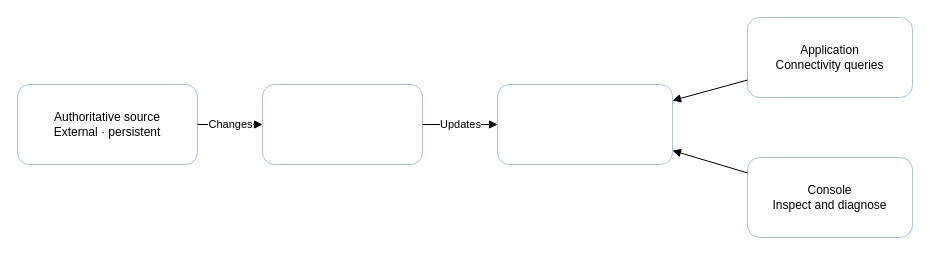
Image size: 930x255. Some labels were removed from this diagram. The shapes that lost their labels are listed below. From the top down, each one's centre as x and y in pixels, then its label:
At (342,124): "Feeder External process".
At (584,124): "Knotrel server Derived graph · RAM".
